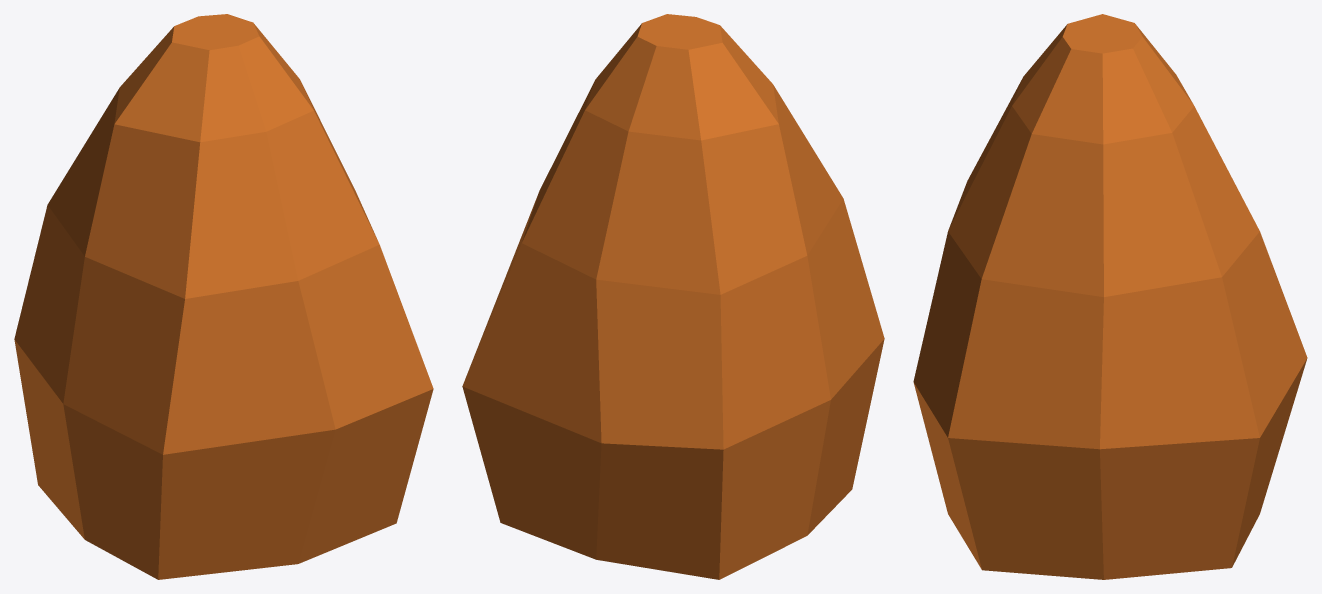
File: rock.fbx
3 renders of one model, left to right at view 1: azimuth 30°, elevation 25°; view 2: azimuth 150°, elevation 25°; view 3: azimuth 270°, elevation 25°, orthographic.
Parts seen in each view (by area): view 1: Core; view 2: Core; view 3: Core.
Boxes of the visible parts, x1,y1,x2,y2 form: Core: [14, 14, 433, 579]; Core: [462, 14, 884, 579]; Core: [913, 14, 1307, 579].
Bounding box in the file's own units: 234 × 337 × 253.
